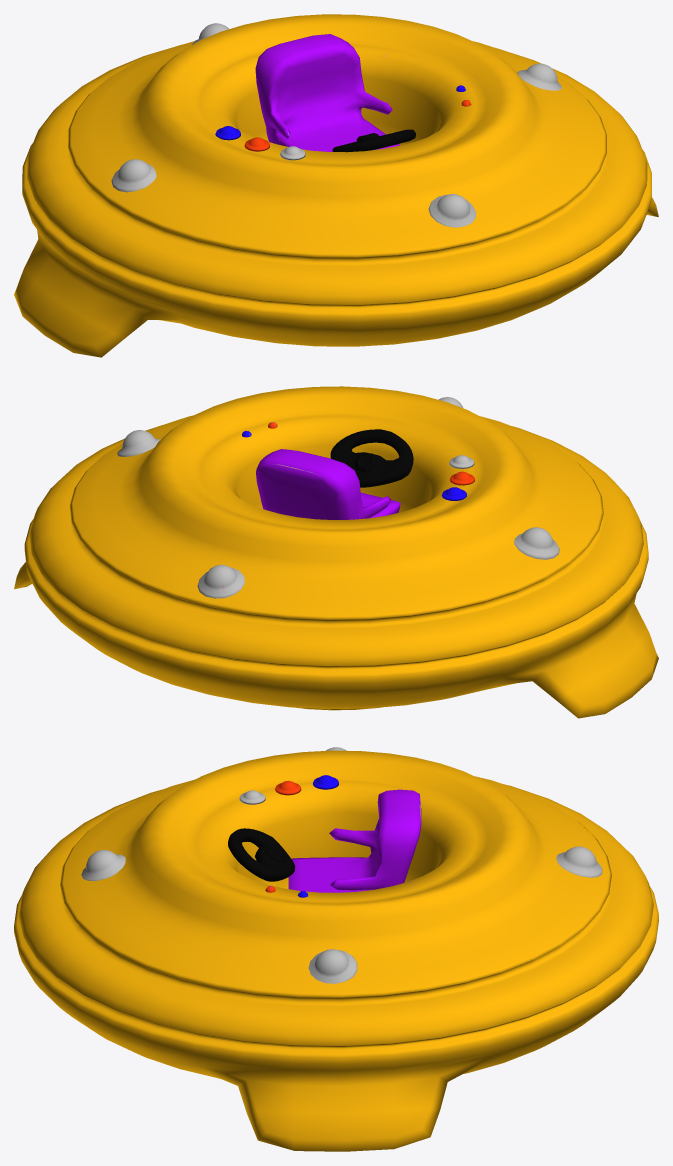
The model's file is SPACESHIP_AnimationTest.fbx.
The picture shows the model from 3 angles, top to bottom: view 1: azimuth 30°, elevation 25°; view 2: azimuth 150°, elevation 25°; view 3: azimuth 270°, elevation 25°; orthographic projection. The views are drawn at different scales.
Parts seen in each view (by area): view 1: BODY; view 2: BODY; view 3: BODY.
Part boxes in pixels (x1,y1,x2,y2): BODY: (14, 14, 658, 357); BODY: (14, 386, 658, 718); BODY: (14, 747, 658, 1151).
Bounding box in the file's own units: 600 × 240 × 554.
